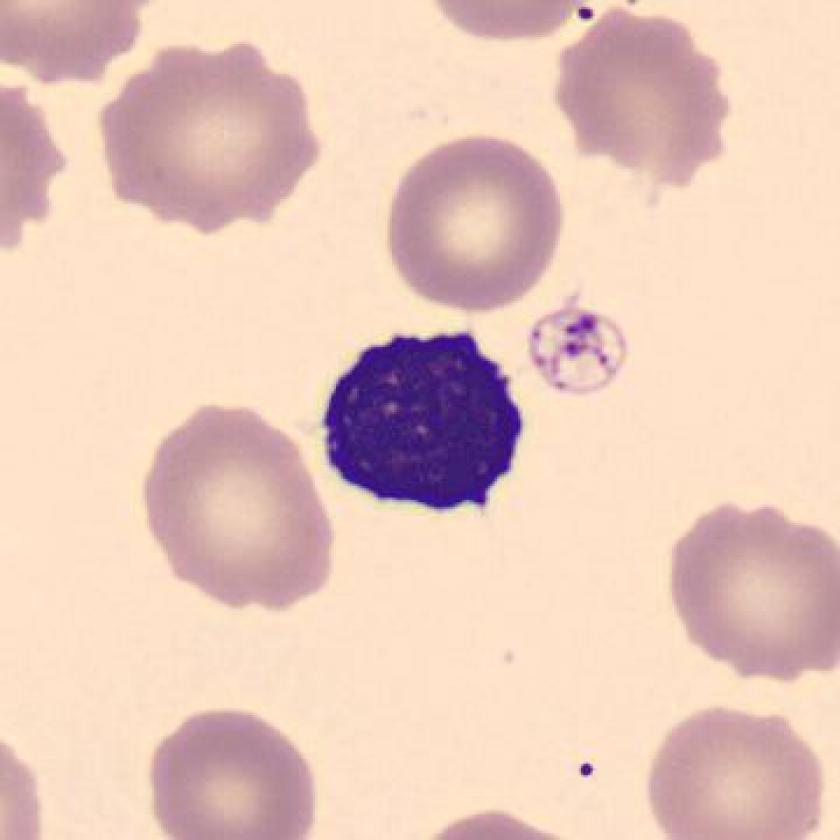lymphocyte: (300, 311, 545, 536)
